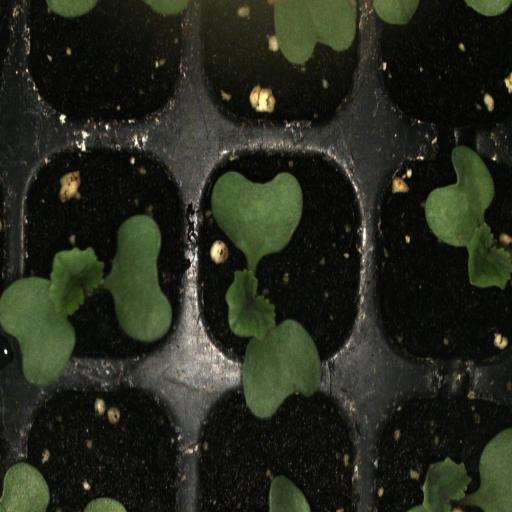seedling: (12, 126, 191, 372), (193, 126, 365, 368), (364, 123, 512, 375), (362, 377, 512, 512)
